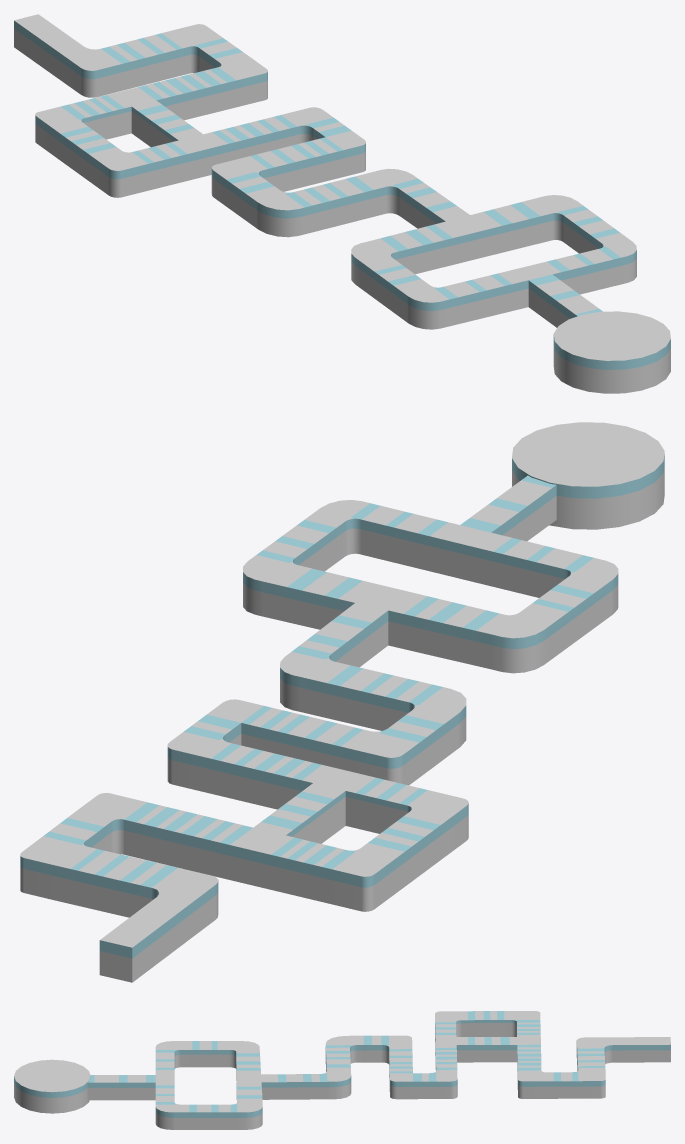
File: Map_002.fbx
3 renders of one model, top to bottom at view 1: azimuth 30°, elevation 25°; view 2: azimuth 150°, elevation 25°; view 3: azimuth 270°, elevation 25°, orthographic. The views are drawn at different scales.
Parts seen in each view (by area): view 1: pCube7; view 2: pCube7; view 3: pCube7.
Boxes of the visible parts, <box> form: pCube7: <box>14,14,670,393</box>; pCube7: <box>20,422,664,982</box>; pCube7: <box>14,1011,670,1129</box>.
Size of the model in its own units: 332 by 32.74 by 910.
